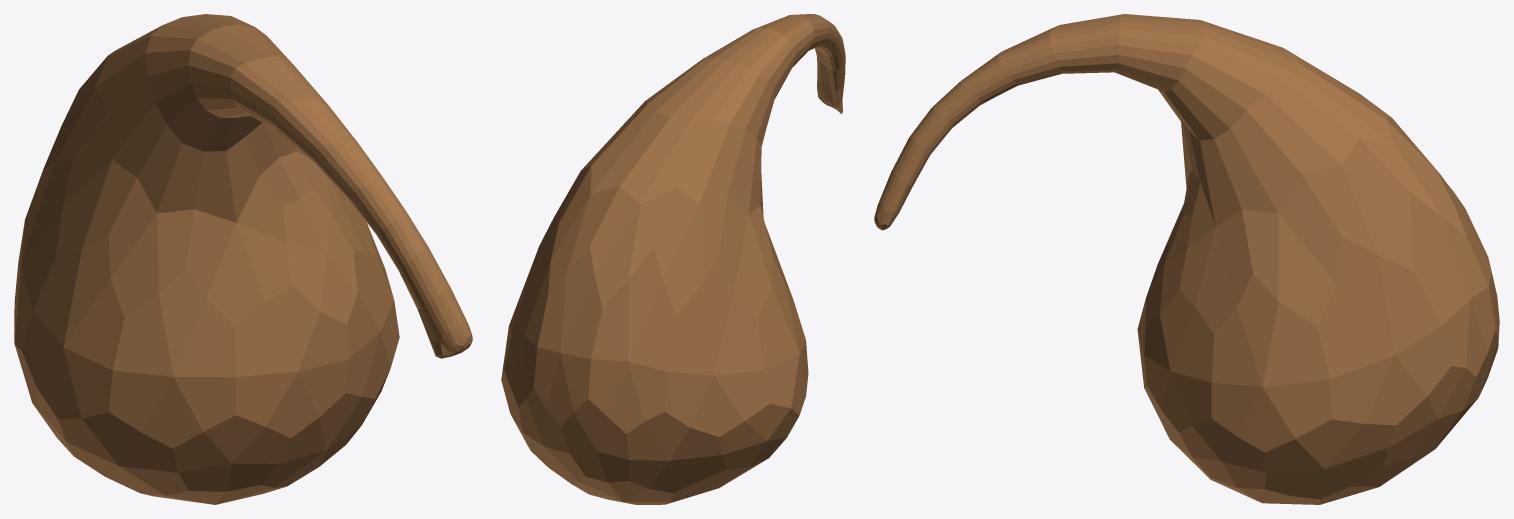
The model's file is GoldBag-Visual.fbx.
3 views of the same model, side by side, from view 1: azimuth 30°, elevation 25°; view 2: azimuth 150°, elevation 25°; view 3: azimuth 270°, elevation 25° (orthographic). The views are drawn at different scales.
Visible parts, largest first — view 1: GoldBag; view 2: GoldBag; view 3: GoldBag.
Boxes of the visible parts, <box> form: GoldBag: <box>14,14,472,504</box>; GoldBag: <box>501,14,845,504</box>; GoldBag: <box>874,14,1499,504</box>.
Size of the model in its own units: 1.7 by 2.47 by 3.13.
